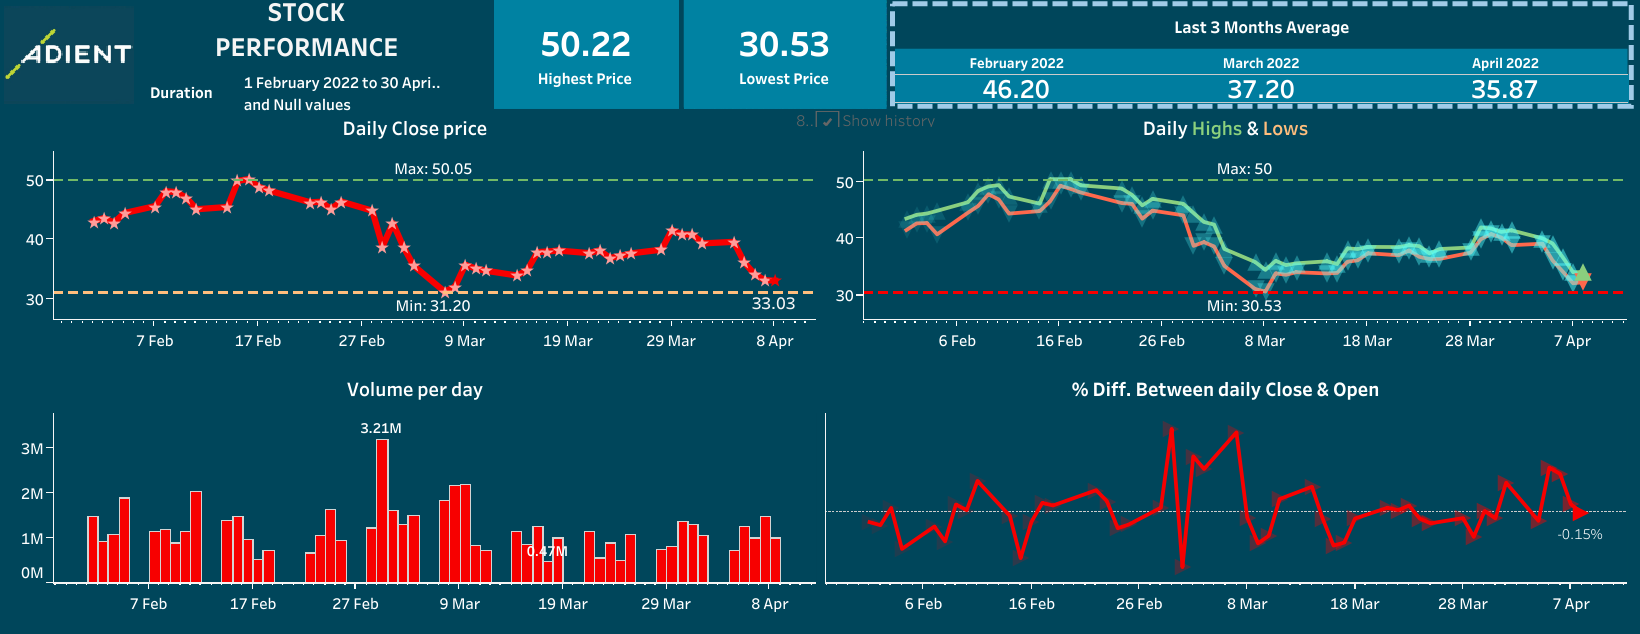

Layout of this report page (visuals, bound fields, positions):
{"tool":"tableau","page":{"name":"Overview","canvas":[1000,1000],"units":"permille","ordinal":0},"visuals":[{"type":"worksheet","title":"Highest Price","mark":"Automatic","box":[300.8,0,112,169.3]},{"type":"worksheet","title":"Lowest Price","mark":"Automatic","box":[416.6,0,122.6,169.3]},{"type":"worksheet","title":"last 3 month Avg","mark":"Automatic","cols":["Date"],"box":[542.3,2,453.2,169.3]},{"type":"image","param":"Image/Adient Logo.jpg","box":[2.3,9.8,97.5,153.5]},{"type":"filter","title":"Daily Close price","param":"[federated.0vp05ts00dtm8c18bchzl1eu2rja].[tdy:Date:qk]","box":[91.4,110.2,178.2,65]},{"type":"worksheet","title":"Daily Close price","mark":"Shape","rows":["Close"],"cols":["Date"],"box":[6.1,159.7,493.5,411.8]},{"type":"worksheet","title":"Daily Higs & Lows","mark":"Shape","cols":["Date"],"box":[499.6,159.7,494.3,411.8]},{"type":"currpage","title":"Daily Close price","box":[485.2,174.2,84.3,26.7]},{"type":"worksheet","title":"Volume per day","mark":"Bar","rows":["Volume"],"cols":["Date"],"box":[6.1,571.5,493.5,412.8]},{"type":"worksheet","title":"% Diff between ","mark":"Shape","rows":["Calculation_1205275872930312192"],"cols":["Date"],"box":[499.6,571.5,494.3,412.8]}]}

Visuals, with their boxes on the dashboard's canvas, which has no fixed pixel size, in thousandths of its width and height (x1, y1, x2, y2). These are canvas units, not pixel positions in the 1640x634 screenshot, which may show the page scaled, cropped or inside an application window:
"Highest Price" worksheet: [301, 0, 413, 169]
"Lowest Price" worksheet: [417, 0, 539, 169]
"last 3 month Avg" worksheet: [542, 2, 996, 171]
image: [2, 10, 100, 163]
"Daily Close price" filter: [91, 110, 270, 175]
"Daily Close price" worksheet (Shape marks): [6, 160, 500, 572]
"Daily Higs & Lows" worksheet (Shape marks): [500, 160, 994, 572]
"Daily Close price" currpage: [485, 174, 570, 201]
"Volume per day" worksheet (Bar marks): [6, 572, 500, 984]
"% Diff between " worksheet (Shape marks): [500, 572, 994, 984]
